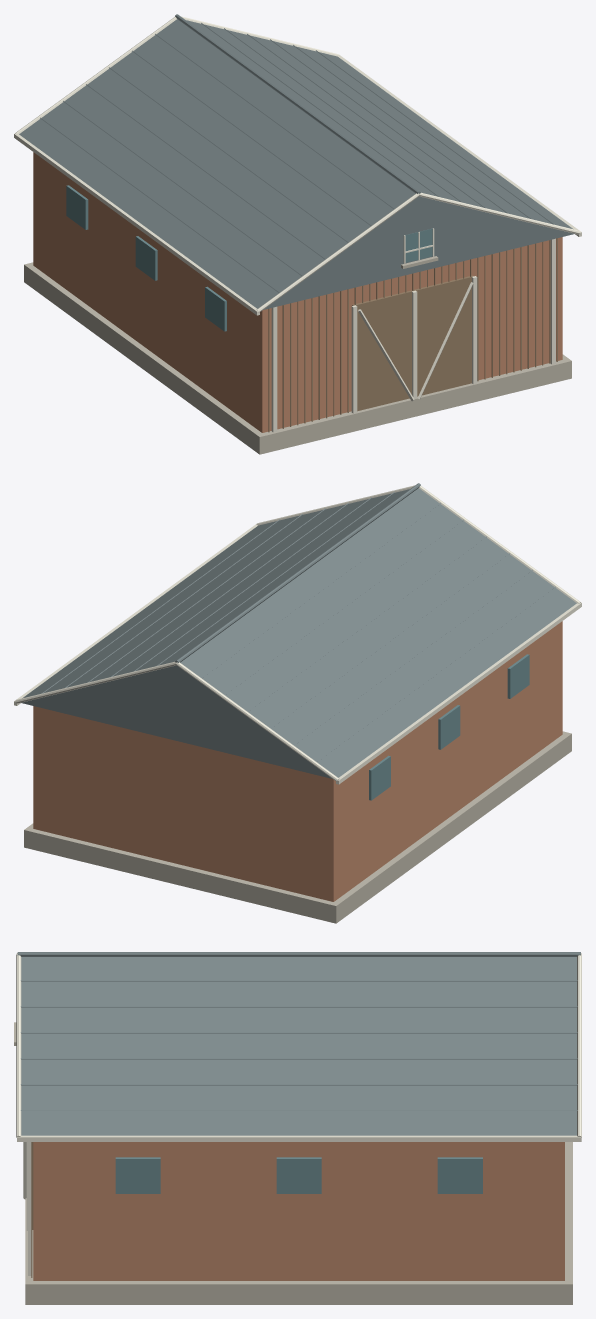
The picture shows the model from 3 angles, top to bottom: view 1: azimuth 30°, elevation 25°; view 2: azimuth 150°, elevation 25°; view 3: azimuth 270°, elevation 25°; orthographic projection. The views are drawn at different scales.
Bounding box in the file's own units: 13.53 × 9.05 × 17.62.
